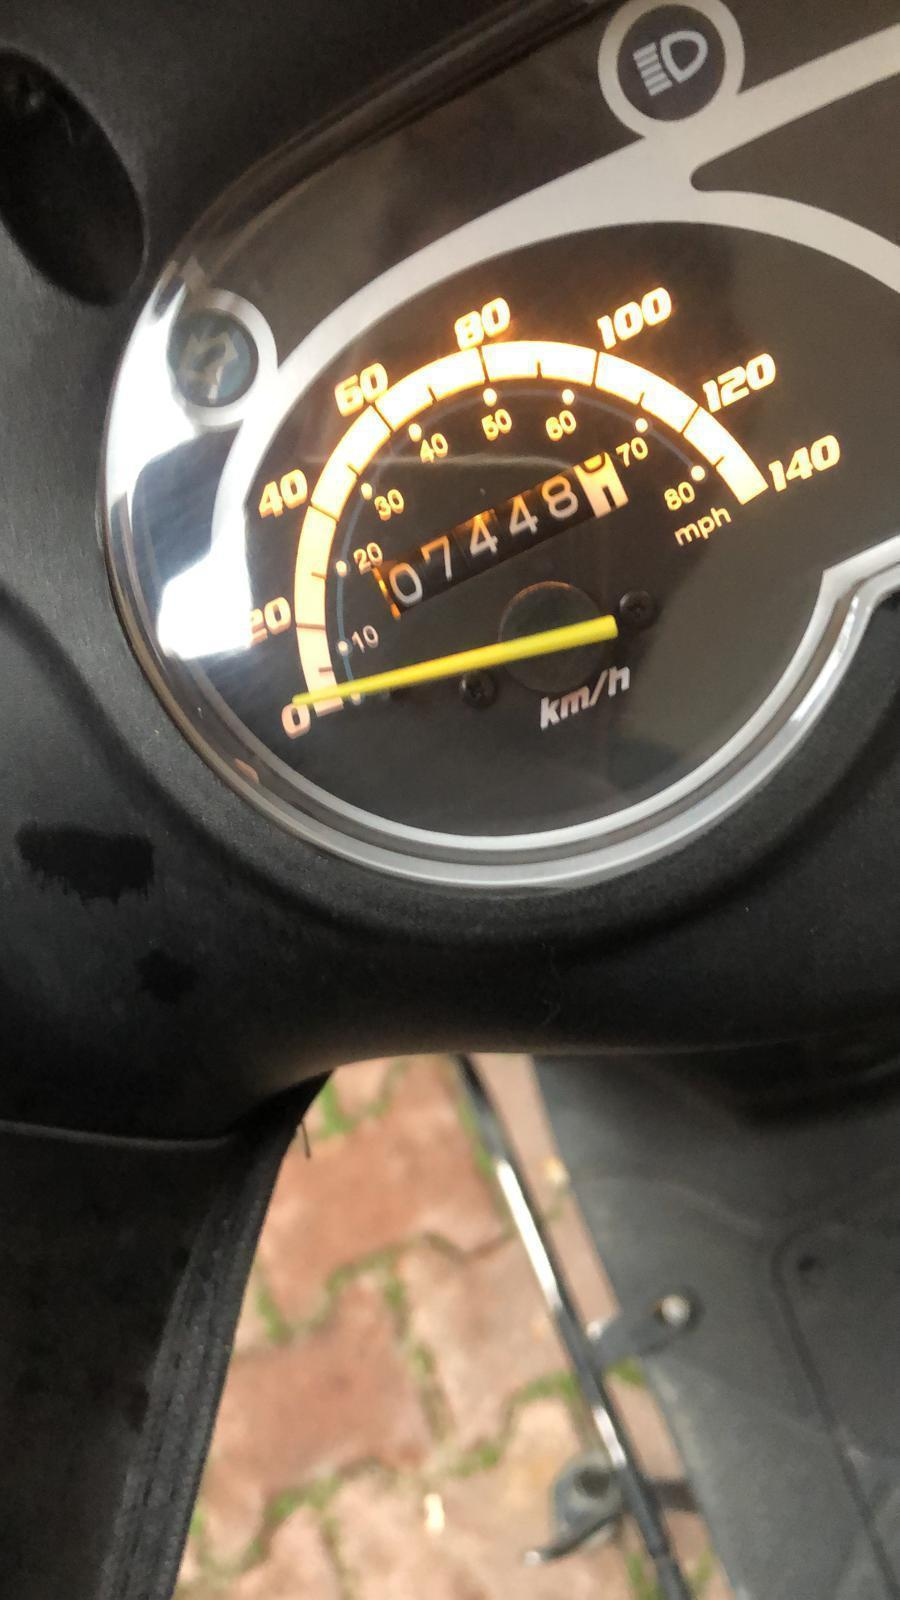0: (387, 562, 425, 605), (386, 486, 407, 513), (432, 432, 451, 456), (631, 434, 647, 460), (366, 538, 384, 563)
1: (593, 481, 625, 530)
3: (373, 493, 390, 521)
4: (465, 513, 502, 567), (507, 490, 541, 537), (416, 438, 435, 464)
7: (418, 533, 458, 582), (615, 441, 633, 469)
8: (538, 474, 582, 523)
odometer: (369, 441, 648, 625)
